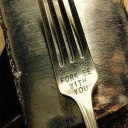fork: (34, 1, 106, 128)
